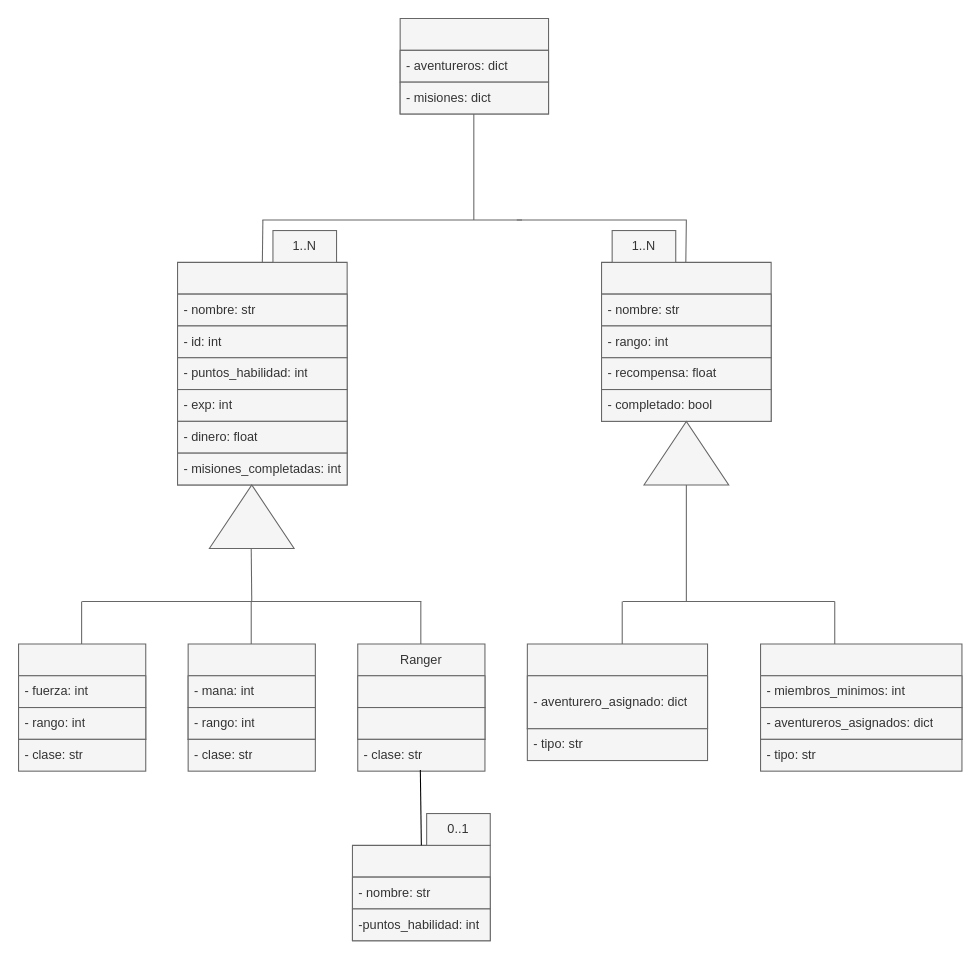
Image size: 980x959. Some labels were removed from this diagram. The shapes that lost their labels are listed below. From the top down, each one's box as (x1, y1, x2, y2) in pixels, then its label:
(399, 17, 549, 114): Gremio
(600, 261, 771, 421): -Abastract Mision
(176, 261, 347, 485): -Abastract Aventurero
(17, 643, 146, 739): Guerrero
(187, 643, 315, 739): Mago
(357, 675, 485, 708): - mascota
(526, 643, 708, 729): Mision_Individual
(759, 643, 962, 739): Mision_Grupal
(357, 706, 485, 739): - rango
(351, 844, 490, 941): Mascota
